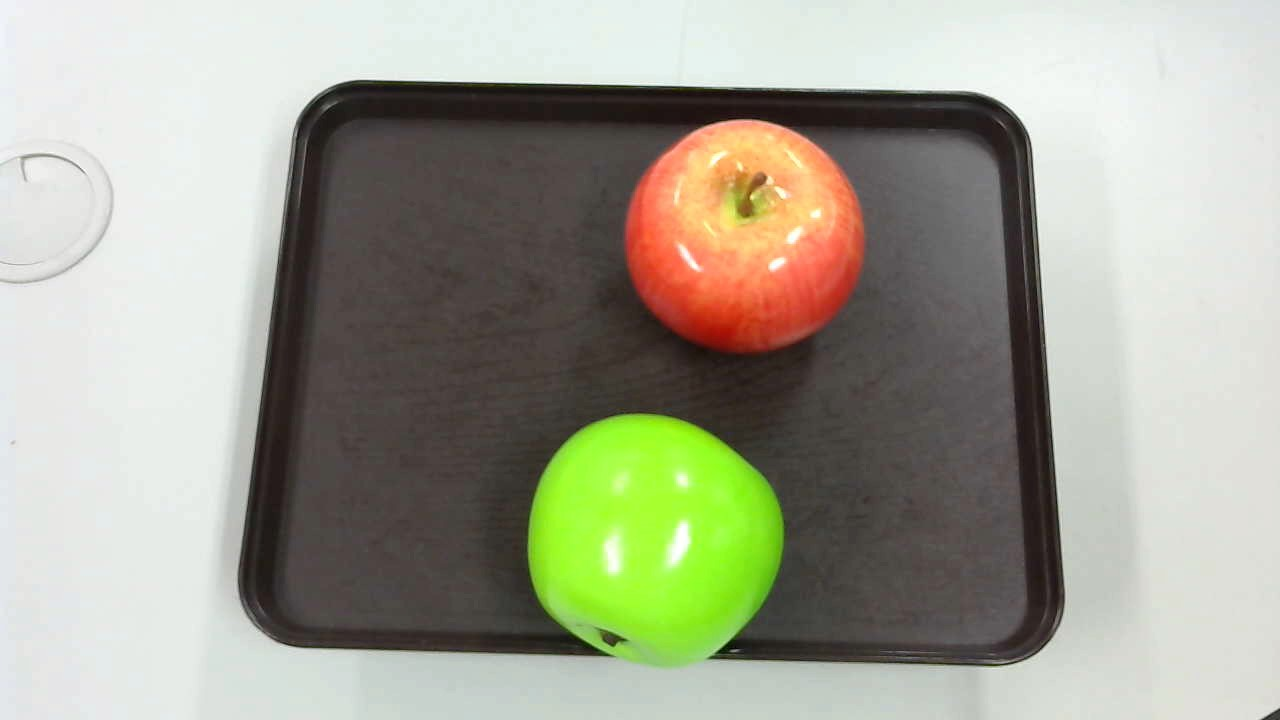green apple: (519, 411, 782, 669)
red apple: (618, 120, 862, 352)
